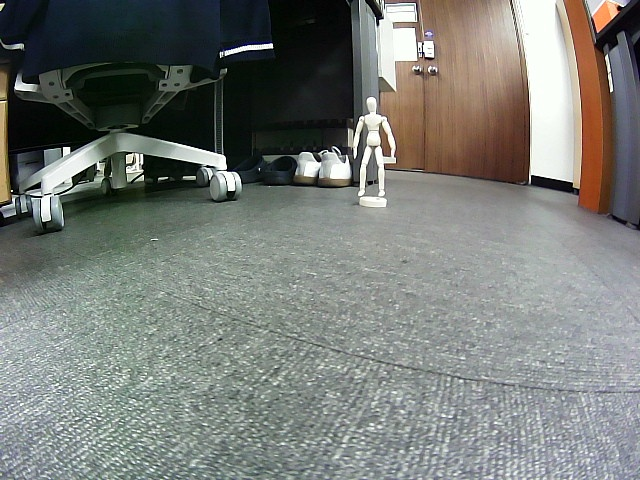person: (353, 96, 395, 196)
